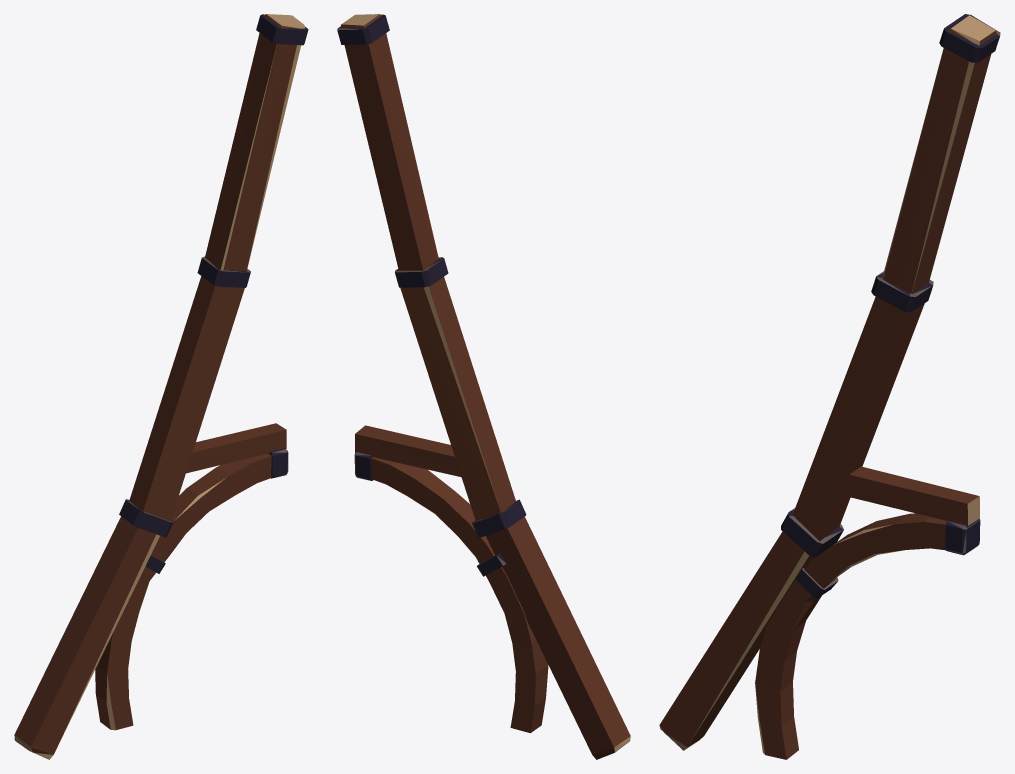
File: MCastle_InteriorSupports_00.FBX
3 views of the same model, side by side, from view 1: azimuth 30°, elevation 25°; view 2: azimuth 150°, elevation 25°; view 3: azimuth 330°, elevation 25° (orthographic). The views are drawn at different scales.
Visible parts, largest first — view 1: MCastle_InteriorSupports_00_LOD0; view 2: MCastle_InteriorSupports_00_LOD0; view 3: MCastle_InteriorSupports_00_LOD0.
Boxes of the visible parts, x1=… form: MCastle_InteriorSupports_00_LOD0: x1=14, y1=14, x2=308, y2=759; MCastle_InteriorSupports_00_LOD0: x1=337, y1=14, x2=630, y2=759; MCastle_InteriorSupports_00_LOD0: x1=659, y1=14, x2=1000, y2=759.
Size of what is drawn, in the model's own units: 227 by 528 by 29.3.
